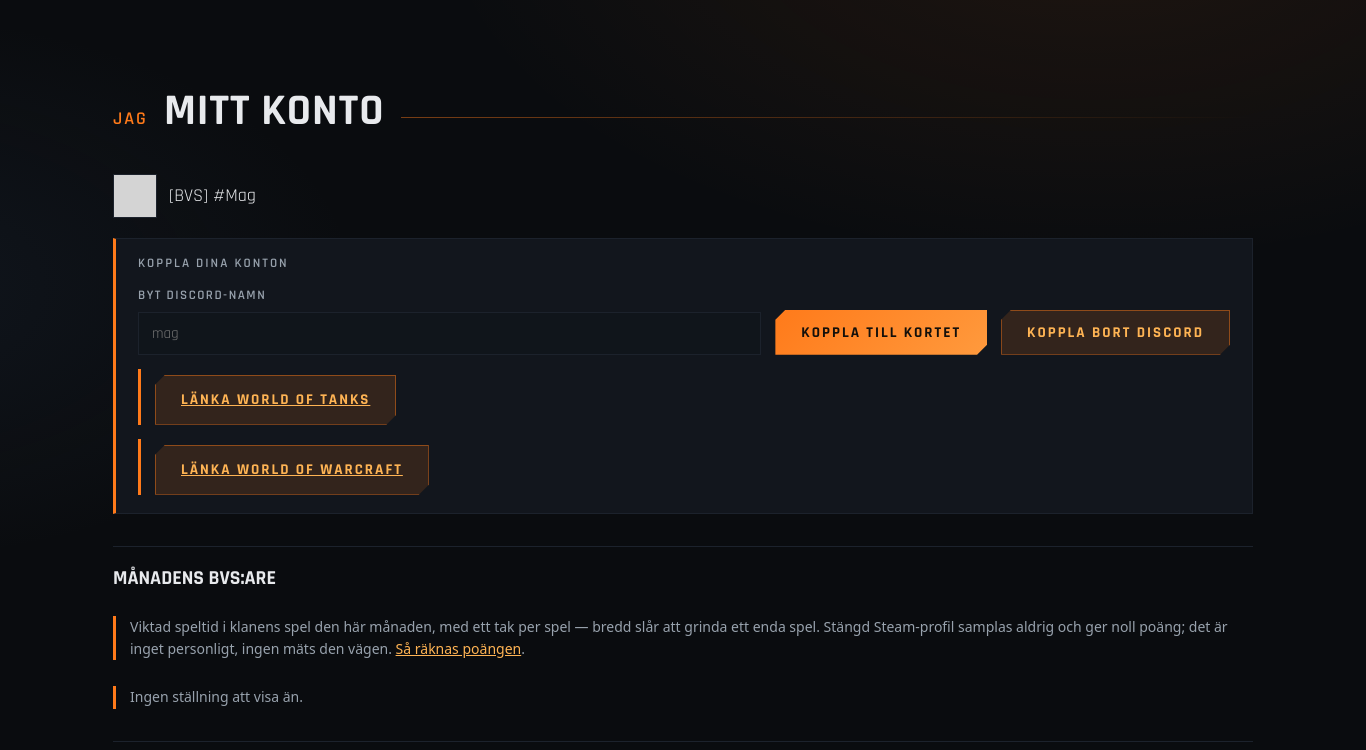
Scenario: linking a Discord name › says so when the name could not be saved
Type "magge" into the field labelled "Byt Discord-namn" at [450, 333], box [138,312,761,355]
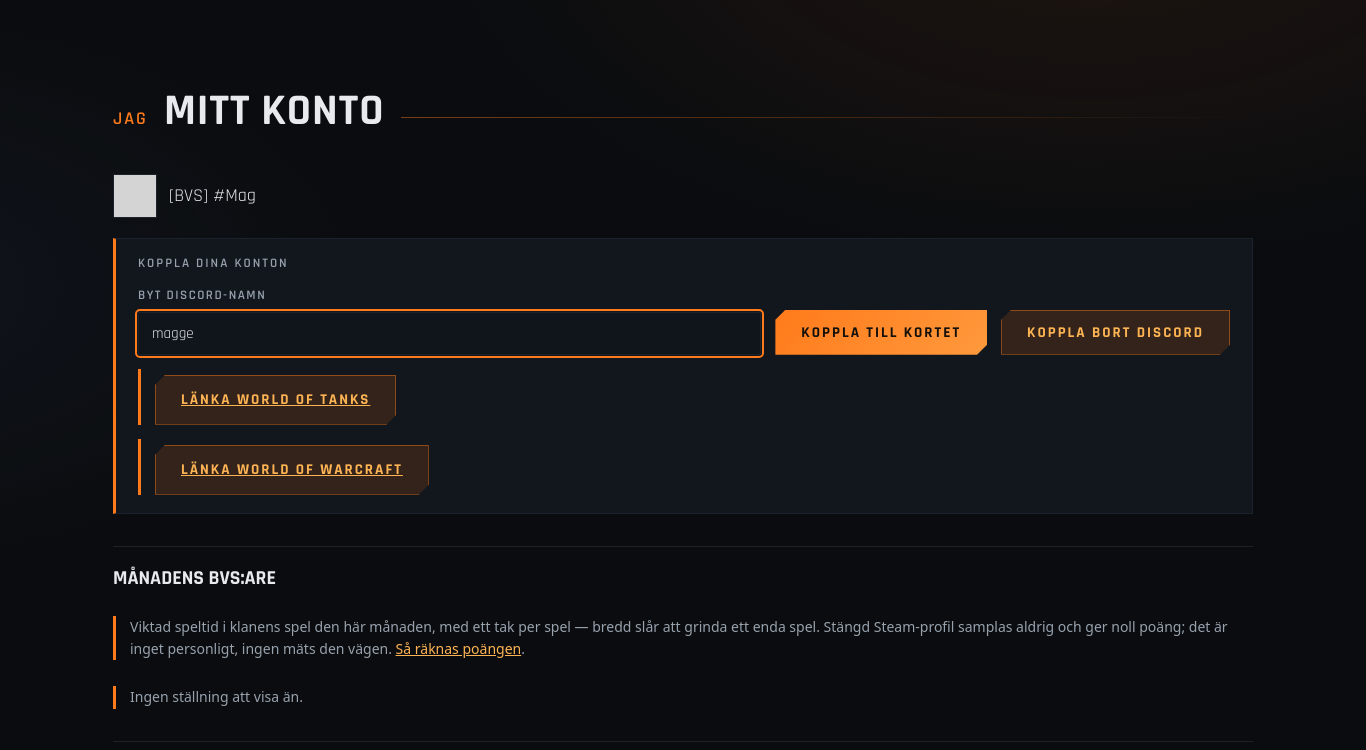
Click the button "Koppla till kortet" at [881, 332], box [775,310,987,355]
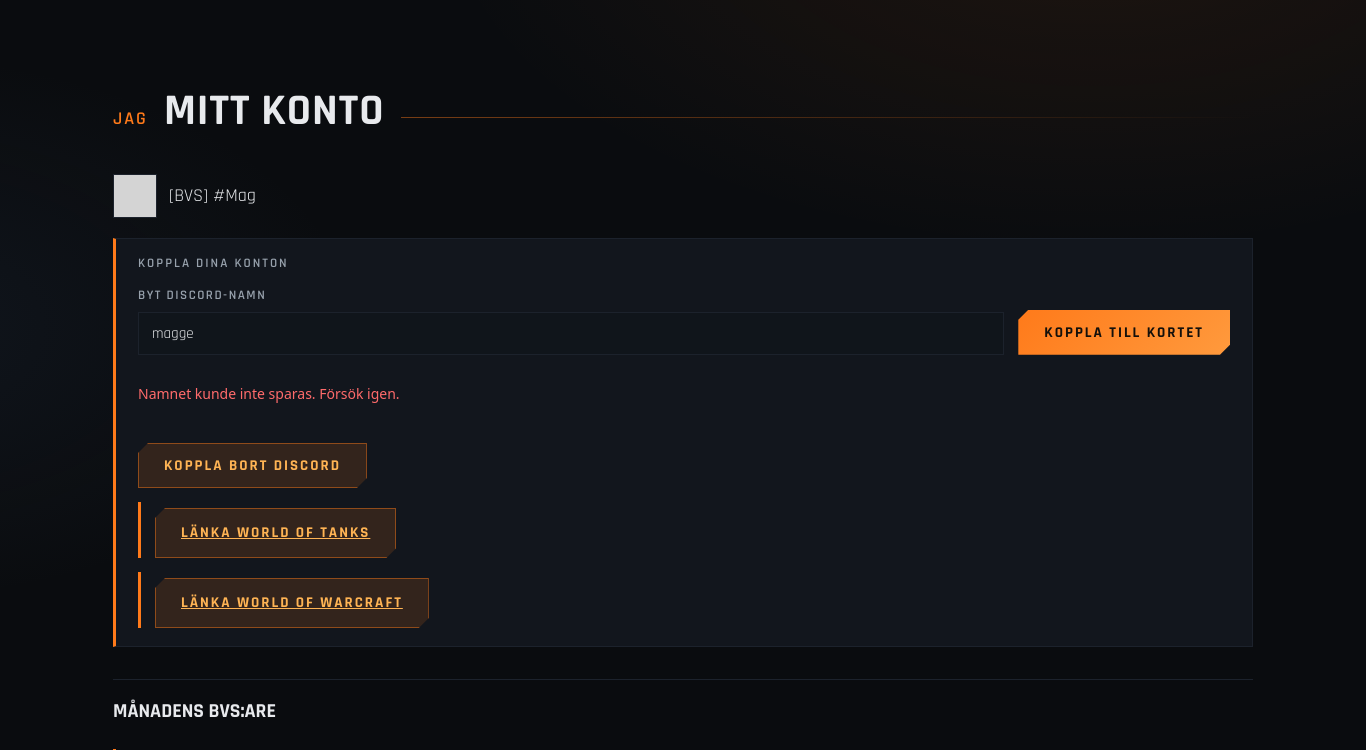
Result: the text "Namnet kunde inte sparas. Försök igen." is shown at [138,384,400,403]
